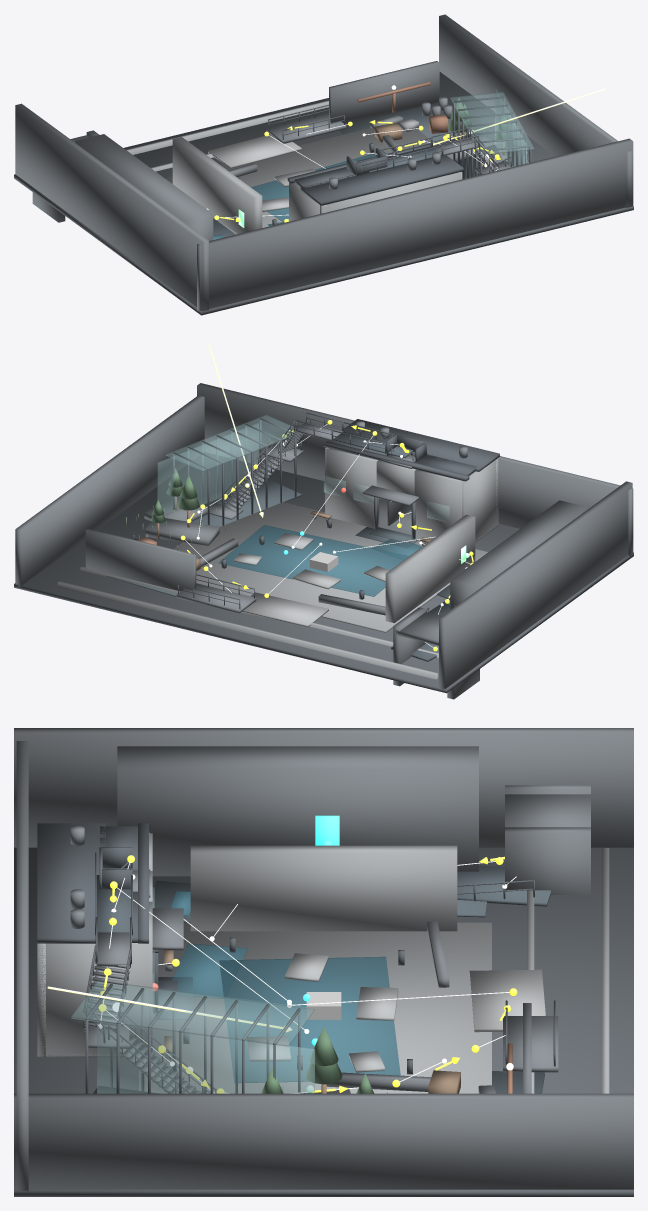
Rendered from Scene_sketch_detailed.glb.
The picture shows the model from 3 angles, top to bottom: view 1: azimuth 30°, elevation 25°; view 2: azimuth 150°, elevation 25°; view 3: azimuth 270°, elevation 25°; orthographic projection. The views are drawn at different scales.
Parts seen in each view (by area): view 1: 00_Wall_North, 00_Wall_West, 00_Wall_East, 00_Site_Ground, 03_Courtyard_Paving, 02_Alley_WorkshopWall, 08_ServiceBay_BackWall, 02_Alley_Wall_W, 05_GlassCorridor_Roof, 04_Roof_North, 09_FinalVista_Pad, 01_Canal_Wall_S (+10 smaller); view 2: 00_Site_Ground, 00_Wall_West, 03_Courtyard_Paving, 00_Wall_North, 00_Wall_East, 03_Water_Main, 02_Alley_WorkshopWall, 08_ServiceBay_BackWall, 05_GlassCorridor_OuterWall, 02_Alley_Wall_W, 04_FrontWall_Right, 05_GlassCorridor_Roof (+21 smaller); view 3: 00_Wall_East, 02_Alley_Wall_W, 03_Courtyard_Paving, 00_Site_Ground, 00_Wall_West, 02_Alley_WorkshopWall, 03_Water_Main, 05_GlassCorridor_OuterWall, 05_GlassCorridor_Roof, 04_Building_EastWall, 04_Roof_North, 00_Wall_North (+30 smaller).
Boxes of the visible parts, x1,y1,x2,y2 form: 00_Wall_North: (197, 138, 633, 311); 00_Wall_West: (15, 103, 208, 312); 00_Wall_East: (439, 14, 632, 207); 00_Site_Ground: (14, 72, 633, 315); 03_Courtyard_Paving: (165, 120, 437, 234); 02_Alley_WorkshopWall: (172, 137, 262, 233); 08_ServiceBay_BackWall: (329, 61, 439, 124); 02_Alley_Wall_W: (75, 134, 213, 240); 05_GlassCorridor_Roof: (450, 92, 534, 154); 04_Roof_North: (300, 155, 463, 205); 09_FinalVista_Pad: (208, 134, 301, 168); 01_Canal_Wall_S: (126, 100, 328, 154); 00_Site_Ground: (14, 452, 633, 693); 00_Wall_West: (439, 481, 632, 690); 03_Courtyard_Paving: (174, 502, 487, 632); 00_Wall_North: (197, 383, 633, 556); 00_Wall_East: (15, 395, 204, 587); 03_Water_Main: (218, 525, 408, 596); 02_Alley_WorkshopWall: (385, 514, 475, 622); 08_ServiceBay_BackWall: (85, 528, 196, 591); 05_GlassCorridor_OuterWall: (157, 423, 258, 515); 02_Alley_Wall_W: (450, 500, 588, 609); 04_FrontWall_Right: (326, 448, 379, 528); 05_GlassCorridor_Roof: (166, 414, 295, 471); 00_Wall_East: (14, 1093, 633, 1189); 02_Alley_Wall_W: (117, 746, 478, 876); 03_Courtyard_Paving: (139, 922, 491, 1093); 00_Site_Ground: (14, 847, 633, 1196); 00_Wall_West: (14, 728, 633, 847); 02_Alley_WorkshopWall: (190, 845, 457, 931); 03_Water_Main: (219, 956, 400, 1082); 05_GlassCorridor_OuterWall: (97, 1021, 314, 1093); 05_GlassCorridor_Roof: (71, 980, 314, 1046); 04_Building_EastWall: (37, 941, 149, 1056); 04_Roof_North: (37, 823, 105, 943); 00_Wall_North: (16, 741, 28, 1191).
Size of the model in its own units: 48 by 14.36 by 36.
